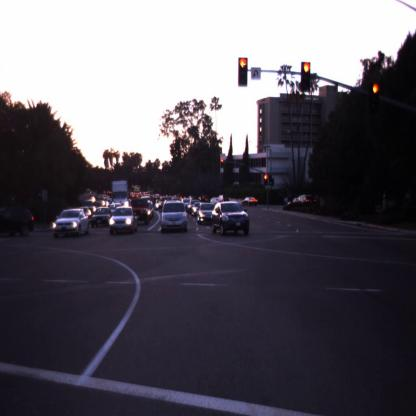trafficlight: (367, 81, 381, 114), (301, 60, 311, 95), (237, 57, 248, 88), (263, 173, 268, 186), (221, 158, 224, 169)
